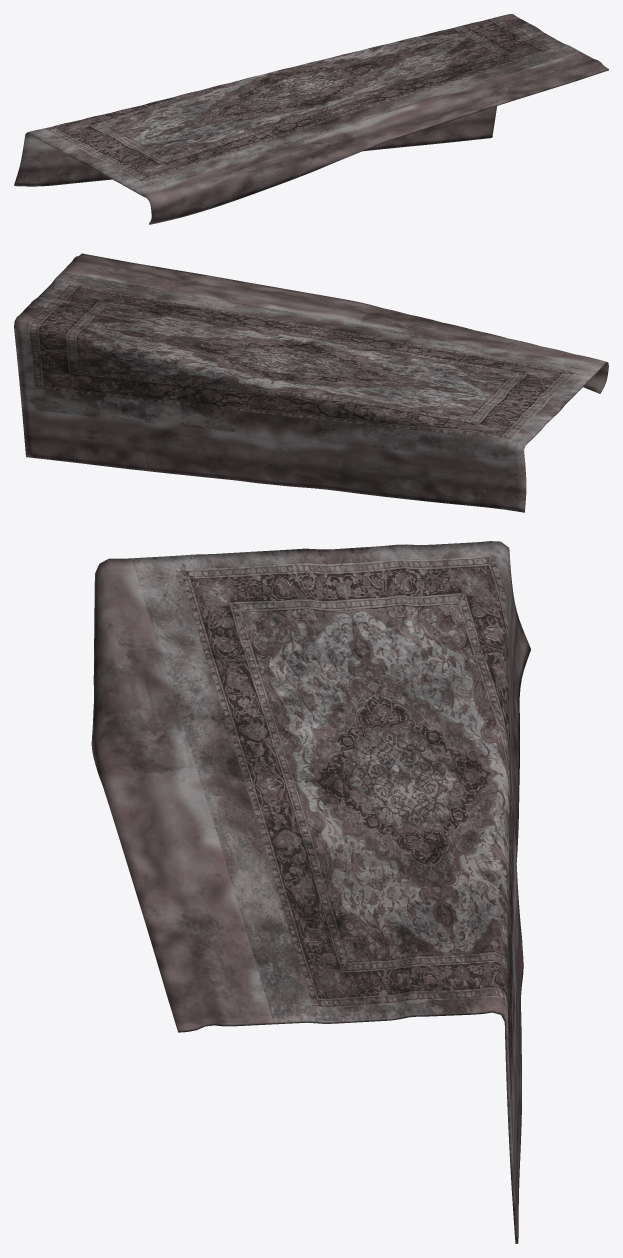
Rendered from SM_Carpet01.fbx.
3 renders of one model, top to bottom at view 1: azimuth 30°, elevation 25°; view 2: azimuth 150°, elevation 25°; view 3: azimuth 270°, elevation 25°, orthographic. The views are drawn at different scales.
Visible parts, largest first — view 1: SM_Carpet01_LOD0; view 2: SM_Carpet01_LOD0; view 3: SM_Carpet01_LOD0.
Boxes of the visible parts, x1,y1,x2,y2 form: SM_Carpet01_LOD0: (14, 14, 608, 224); SM_Carpet01_LOD0: (14, 253, 608, 512); SM_Carpet01_LOD0: (91, 541, 530, 1243).
Size of the model in its own units: 257 by 96.35 by 60.71.
